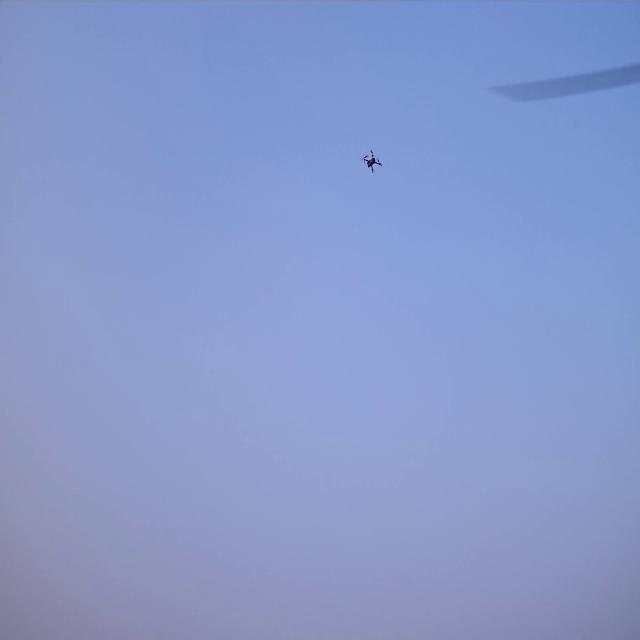UAV: (364, 152, 380, 172)
